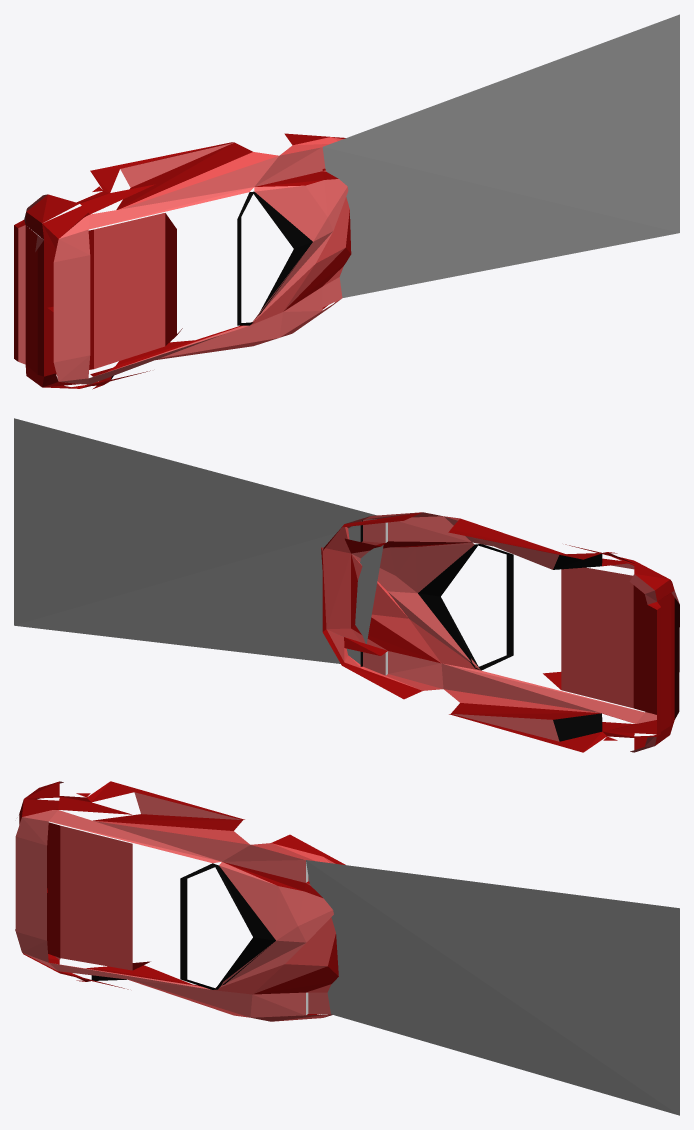
Rendered from cars_0.obj.
3 views of the same model, one above another, from view 1: azimuth 30°, elevation 25°; view 2: azimuth 150°, elevation 25°; view 3: azimuth 330°, elevation 25° (orthographic). The views are drawn at different scales.
Visible parts, largest first — view 1: car1; view 2: car1; view 3: car1.
Boxes of the visible parts, bbox=[...] form: car1: bbox=[14, 14, 679, 389]; car1: bbox=[14, 418, 679, 752]; car1: bbox=[15, 781, 679, 1115].
Size of the model in its own units: 0.464 by 0.144 by 0.05.
